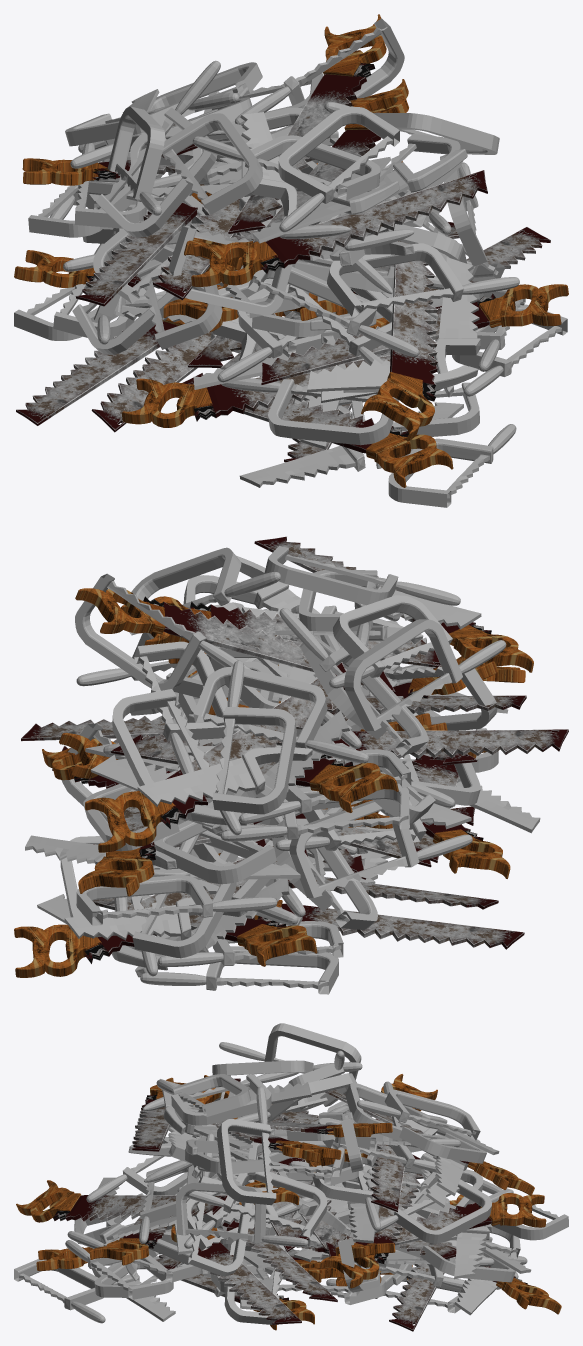
The model's file is saw_pile.fbx.
3 renders of one model, top to bottom at view 1: azimuth 30°, elevation 25°; view 2: azimuth 150°, elevation 25°; view 3: azimuth 270°, elevation 25°, orthographic. The views are drawn at different scales.
Parts seen in each view (by area): view 1: MASH1_ReproMesh7; view 2: MASH1_ReproMesh7; view 3: MASH1_ReproMesh7.
Boxes of the visible parts, <box> form: MASH1_ReproMesh7: <box>14,14,568,507</box>; MASH1_ReproMesh7: <box>14,536,568,994</box>; MASH1_ReproMesh7: <box>14,1023,568,1331</box>.
Bounding box in the file's own units: 215 × 121 × 273.
